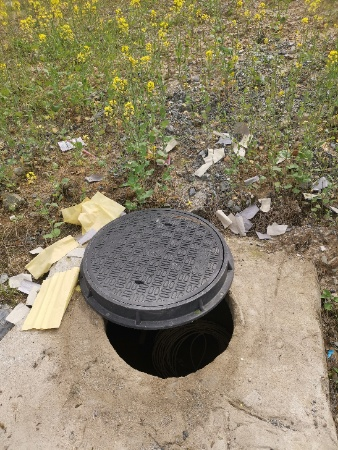uncovered: (81, 207, 238, 377)
